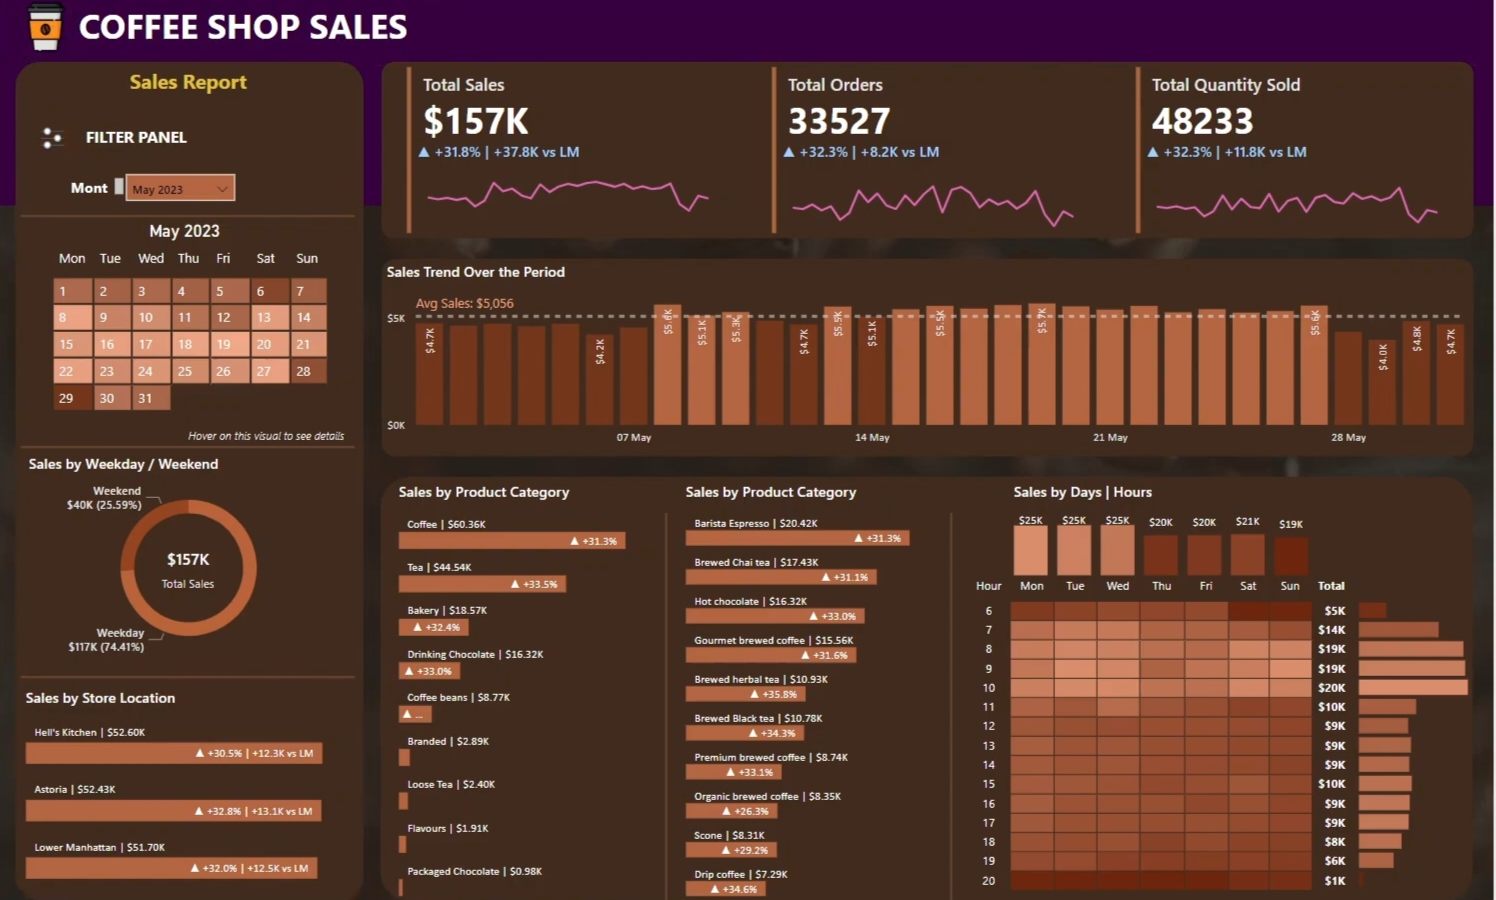

The page's visual inventory and layout, read from the dashboard file:
{"tool":"powerbi","page":{"name":"Page 1","canvas":[1400,900],"ordinal":0},"visuals":[{"type":"shape","box":[0,0,1400,180],"z":0,"group":"g1"},{"type":"shape","box":[307,311.1,1083.7,180],"z":0},{"type":"textbox","box":[81.3,7.2,410.3,66.9],"z":1000,"group":"g1"},{"type":"shape","box":[6.1,81.3,300.9,819.4],"z":1000,"group":"g5"},{"type":"columnChart","title":"Sales Trend Over the Period","fields":{"Category":["Date Table.Day No"],"Y":["Transactions.Total Sales"]},"box":[325.3,325.3,1049.1,150.5],"z":1000},{"type":"image","box":[10.8,5.4,70.5,68.7],"z":2000,"group":"g1"},{"type":"group","id":"g1","title":"Group 6","box":[0,0,1400,180],"z":3500},{"type":"shape","box":[307,81.3,359.9,229.7],"z":4000,"group":"g3"},{"type":"shape","box":[666.9,81.3,361.9,229.7],"z":4000,"group":"g4"},{"type":"group","id":"g2","title":"Group 3","box":[1028.8,81.3,361.9,229.7],"z":4000},{"type":"shape","box":[1028.8,81.3,361.9,229.7],"z":4000,"group":"g2"},{"type":"slicer","fields":{"Values":["Date Table.Month & Year"]},"box":[18.3,189.8,280,69.1],"z":4000,"group":"g5"},{"type":"group","id":"g3","title":"Group 1","box":[307,81.3,359.9,229.7],"z":4250},{"type":"group","id":"g4","title":"Group 2","box":[666.9,81.3,361.9,229.7],"z":4500},{"type":"group","id":"g5","title":"Group 4","box":[6.1,81.3,300.9,819.4],"z":5000},{"type":"cardVisual","fields":{"Data":["Transactions.Total Quantity"]},"box":[1039,89.4,339.5,99.6],"z":6000,"group":"g2"},{"type":"group","id":"g6","title":"Group 5","box":[307.8,485.6,1083.3,414.4],"z":6000},{"type":"cardVisual","fields":{"Data":["Transactions.Total Orders"]},"box":[679.1,89.4,339.5,99.6],"z":7000,"group":"g4"},{"type":"areaChart","fields":{"Category":["Date Table.Date.Variation.Date Hierarchy.Year","Date Table.Date.Variation.Date Hierarchy.Quarter","Date Table.Date.Variation.Date Hierarchy.Month","Date Table.Date.Variation.Date Hierarchy.Day"],"Y":["Transactions.Total Quantity"]},"box":[1039,197.2,339.5,99.6],"z":7000,"group":"g2"},{"type":"shape","box":[307.8,485.6,1083.3,414.4],"z":7000,"group":"g6"},{"type":"cardVisual","fields":{"Data":["Transactions.Total Sales"]},"box":[317.2,89.4,339.5,99.6],"z":8000,"group":"g3"},{"type":"areaChart","fields":{"Category":["Date Table.Date.Variation.Date Hierarchy.Year","Date Table.Date.Variation.Date Hierarchy.Quarter","Date Table.Date.Variation.Date Hierarchy.Month","Date Table.Date.Variation.Date Hierarchy.Day"],"Y":["Transactions.Total Orders"]},"box":[679.1,197.2,339.5,99.6],"z":9000,"group":"g4"},{"type":"shape","box":[597.9,512.8,20.4,359.6],"z":9000,"group":"g6"},{"type":"textbox","box":[18.3,90.1,276.5,40],"z":10000,"group":"g5"},{"type":"clusteredBarChart","title":"Sales by Product Type","fields":{"Y":["Transactions.Placeholder","Transactions.Total Sales"],"Category":["Transactions.product_type"]},"box":[617.2,502.6,271.2,380.1],"z":10000,"group":"g6"},{"type":"image","box":[22,140.7,40,40],"z":11000,"group":"g5"},{"type":"areaChart","fields":{"Category":["Date Table.Date.Variation.Date Hierarchy.Year","Date Table.Date.Variation.Date Hierarchy.Quarter","Date Table.Date.Variation.Date Hierarchy.Month","Date Table.Date.Variation.Date Hierarchy.Day"],"Y":["Transactions.Total Sales"]},"box":[317.2,197.2,339.5,99.6],"z":11000,"group":"g3"},{"type":"textbox","box":[73.2,140.7,199.3,40.7],"z":12000,"group":"g5"},{"type":"clusteredBarChart","title":"Sales by Product Type","fields":{"Y":["Transactions.Placeholder","Transactions.Total Sales"],"Category":["Transactions.product_type"]},"box":[326.7,502.6,271.2,380.1],"z":12000,"group":"g6"},{"type":"shape","box":[22.4,263,270.4,20.3],"z":13000,"group":"g5"},{"type":"shape","box":[888.3,512.8,20.4,359.6],"z":13000,"group":"g6"},{"type":"pivotTable","fields":{"Columns":["Date Table.Weekday Name"],"Rows":["Date Table.Week No"],"Values":["Min(Date Table.Day No)"]},"box":[18.3,283.3,280.6,181],"z":14000,"group":"g5"},{"type":"pivotTable","fields":{"Rows":["Transactions.Transaction Hour"],"Columns":["Date Table.Weekday Name"],"Values":["Transactions.Total Sales"]},"box":[902.2,586.7,369,290],"z":14000,"group":"g6"},{"type":"shape","box":[22.4,466,269.4,20.4],"z":15000,"group":"g5"},{"type":"barChart","fields":{"Y":["Transactions.Total Sales"],"Category":["Transactions.Transaction Hour"]},"box":[1267.8,601.2,112.2,270],"z":15000,"group":"g6"},{"type":"donutChart","title":"Sales by Weekday & Weekend","fields":{"Category":["Date Table.Weekday / Weekend"],"Y":["Transactions.Total Sales"]},"box":[22.4,486.4,271.4,200],"z":16000,"group":"g5"},{"type":"columnChart","fields":{"Category":["Date Table.Weekday Name"],"Y":["Transactions.Total Sales"]},"box":[924.5,496.7,300,100],"z":16000,"group":"g6"},{"type":"textbox","box":[911.1,498,170,25],"z":17000,"group":"g6"},{"type":"card","fields":{"Values":["Transactions.Total Sales"]},"box":[98,572.1,120.4,49],"z":17000,"group":"g5"},{"type":"clusteredBarChart","title":"Total Sales by Store Location","fields":{"Category":["Transactions.store_location"],"Y":["Transactions.Placeholder","Transactions.Total Sales"]},"box":[22.4,706.8,269.4,179.6],"z":18000,"group":"g5"},{"type":"shape","box":[22.4,686.4,269.4,20.4],"z":19000,"group":"g5"}]}

Visuals, with their boxes on the page's 1400x900 design canvas (x1, y1, x2, y2). These are canvas units, not pixel positions in the 1496x900 screenshot, which may show the page scaled, cropped or inside an application window:
shape: [0, 0, 1400, 180]
shape: [307, 311, 1391, 491]
textbox: [81, 7, 492, 74]
shape: [6, 81, 307, 901]
"Sales Trend Over the Period" columnChart: [325, 325, 1374, 476]
image: [11, 5, 81, 74]
"Group 6" group: [0, 0, 1400, 180]
shape: [307, 81, 667, 311]
shape: [667, 81, 1029, 311]
"Group 3" group: [1029, 81, 1391, 311]
shape: [1029, 81, 1391, 311]
slicer - Date Table.Month & Year: [18, 190, 298, 259]
"Group 1" group: [307, 81, 667, 311]
"Group 2" group: [667, 81, 1029, 311]
"Group 4" group: [6, 81, 307, 901]
cardVisual - Transactions.Total Quantity: [1039, 89, 1378, 189]
"Group 5" group: [308, 486, 1391, 900]
cardVisual - Transactions.Total Orders: [679, 89, 1019, 189]
areaChart - Date Table.Date.Variation.Date Hierarchy.Year x Date Table.Date.Variation.Date Hierarchy.Quarter: [1039, 197, 1378, 297]
shape: [308, 486, 1391, 900]
cardVisual - Transactions.Total Sales: [317, 89, 657, 189]
areaChart - Date Table.Date.Variation.Date Hierarchy.Year x Date Table.Date.Variation.Date Hierarchy.Quarter: [679, 197, 1019, 297]
shape: [598, 513, 618, 872]
textbox: [18, 90, 295, 130]
"Sales by Product Type" clusteredBarChart: [617, 503, 888, 883]
image: [22, 141, 62, 181]
areaChart - Date Table.Date.Variation.Date Hierarchy.Year x Date Table.Date.Variation.Date Hierarchy.Quarter: [317, 197, 657, 297]
textbox: [73, 141, 272, 181]
"Sales by Product Type" clusteredBarChart: [327, 503, 598, 883]
shape: [22, 263, 293, 283]
shape: [888, 513, 909, 872]
pivotTable - Date Table.Weekday Name x Date Table.Week No: [18, 283, 299, 464]
pivotTable - Transactions.Transaction Hour x Date Table.Weekday Name: [902, 587, 1271, 877]
shape: [22, 466, 292, 486]
barChart - Transactions.Total Sales x Transactions.Transaction Hour: [1268, 601, 1380, 871]
"Sales by Weekday & Weekend" donutChart: [22, 486, 294, 686]
columnChart - Date Table.Weekday Name x Transactions.Total Sales: [924, 497, 1224, 597]
textbox: [911, 498, 1081, 523]
card - Transactions.Total Sales: [98, 572, 218, 621]
"Total Sales by Store Location" clusteredBarChart: [22, 707, 292, 886]
shape: [22, 686, 292, 707]
